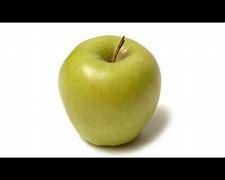apple: (50, 33, 177, 148)
